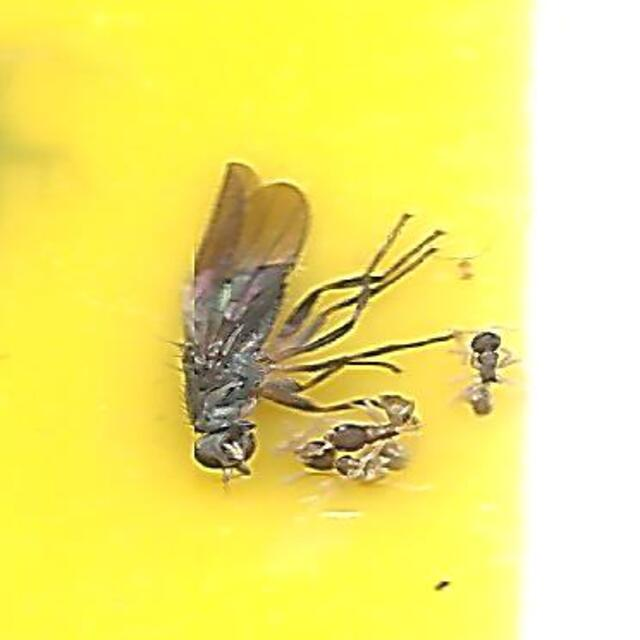Brachycera: (172, 158, 468, 482)
